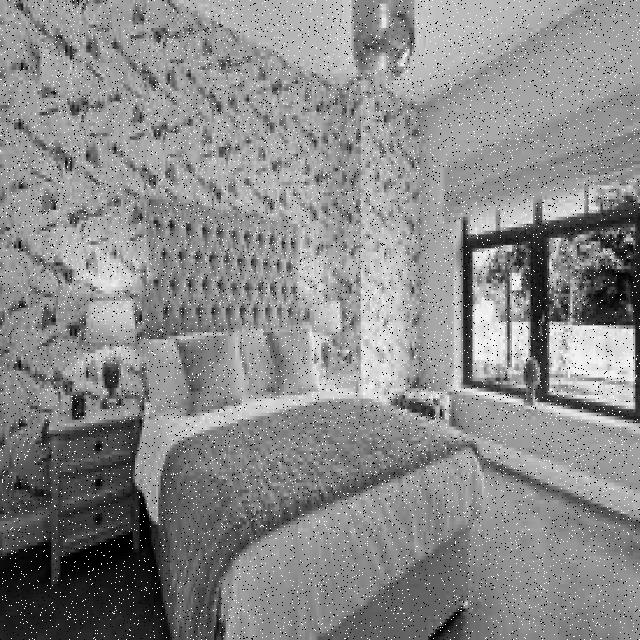bed: (135, 330, 481, 553)
